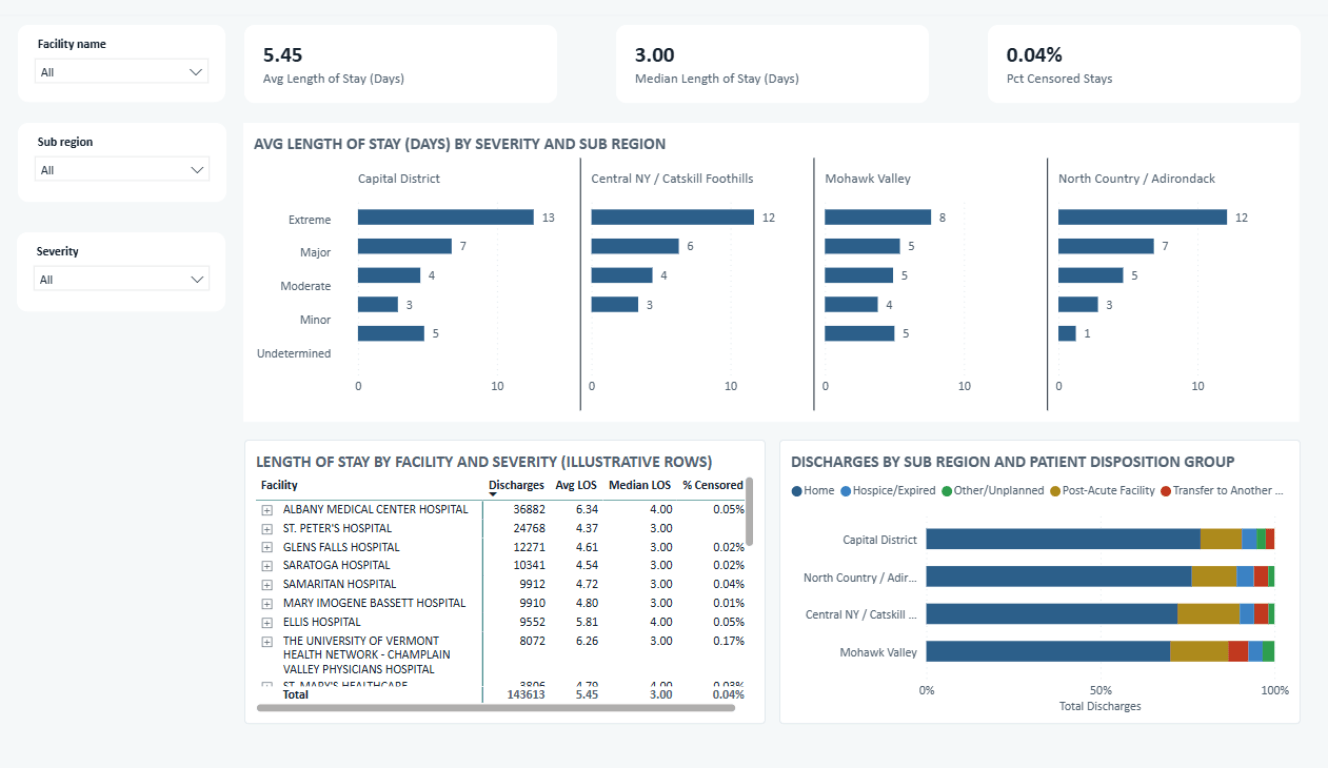

The page's visual inventory and layout, read from the dashboard file:
{"tool":"powerbi","page":{"name":"Length of Stay by Facility and Severity (Q4)","canvas":[1280,720],"ordinal":4},"visuals":[{"type":"cardVisual","fields":{"Data":["_Measures.Avg Length of Stay (Days)"]},"box":[236,13.4,300,75],"z":3000},{"type":"cardVisual","fields":{"Data":["_Measures.Median Length of Stay (Days)"]},"box":[593,13.4,300,75],"z":4000},{"type":"cardVisual","fields":{"Data":["_Measures.Pct Censored Stays"]},"box":[950,13.4,300,75],"z":5000},{"type":"barChart","title":"AVG LENGTH OF STAY (DAYS) BY SEVERITY AND SUB REGION","fields":{"Category":["fact_discharges.apr_severity_of_illness"],"Y":["_Measures.Avg Length of Stay (Days)"],"Rows":["dim_facility.sub_region"]},"box":[235.4,107.3,1013.4,286.6],"z":6000},{"type":"pivotTable","title":"LENGTH OF STAY BY FACILITY AND SEVERITY (ILLUSTRATIVE ROWS)","fields":{"Rows":["dim_facility.facility_name","fact_discharges.apr_severity_of_illness"],"Values":["_Measures.Total Discharges","_Measures.Avg Length of Stay (Days)","_Measures.Median Length of Stay (Days)","_Measures.Pct Censored Stays"]},"box":[236.6,411,500,273.2],"z":7000},{"type":"hundredPercentStackedBarChart","title":"DISCHARGES BY SUB REGION AND PATIENT DISPOSITION GROUP","fields":{"Y":["_Measures.Total Discharges"],"Category":["_SubRegionPopulation.sub_region"],"Series":["fact_discharges.patient_disposition_group"]},"box":[750,411,500,273.2],"z":8000},{"type":"slicer","title":"FACILITY NAME","fields":{"Values":["dim_facility.facility_name"]},"box":[19.5,13.4,198.8,74.4],"z":9000},{"type":"slicer","title":"SUB REGION","fields":{"Values":["dim_facility.sub_region"]},"box":[19.5,107.3,200,75.6],"z":10000},{"type":"slicer","title":"APR SEVERITY OF ILLNESS","fields":{"Values":["fact_discharges.apr_severity_of_illness"]},"box":[18.3,212.2,200,75.6],"z":11000}]}

Visuals, with their boxes in screenshot pixels (x1, y1, x2, y2), scaled from the page's 1280x720 canvas onto the 1328x768 screenshot:
cardVisual - _Measures.Avg Length of Stay (Days): left=245, top=14, right=556, bottom=94
cardVisual - _Measures.Median Length of Stay (Days): left=615, top=14, right=926, bottom=94
cardVisual - _Measures.Pct Censored Stays: left=986, top=14, right=1297, bottom=94
"AVG LENGTH OF STAY (DAYS) BY SEVERITY AND SUB REGION" barChart: left=244, top=114, right=1296, bottom=420
"LENGTH OF STAY BY FACILITY AND SEVERITY (ILLUSTRATIVE ROWS)" pivotTable: left=245, top=438, right=764, bottom=730
"DISCHARGES BY SUB REGION AND PATIENT DISPOSITION GROUP" hundredPercentStackedBarChart: left=778, top=438, right=1297, bottom=730
"FACILITY NAME" slicer: left=20, top=14, right=226, bottom=94
"SUB REGION" slicer: left=20, top=114, right=228, bottom=195
"APR SEVERITY OF ILLNESS" slicer: left=19, top=226, right=226, bottom=307
